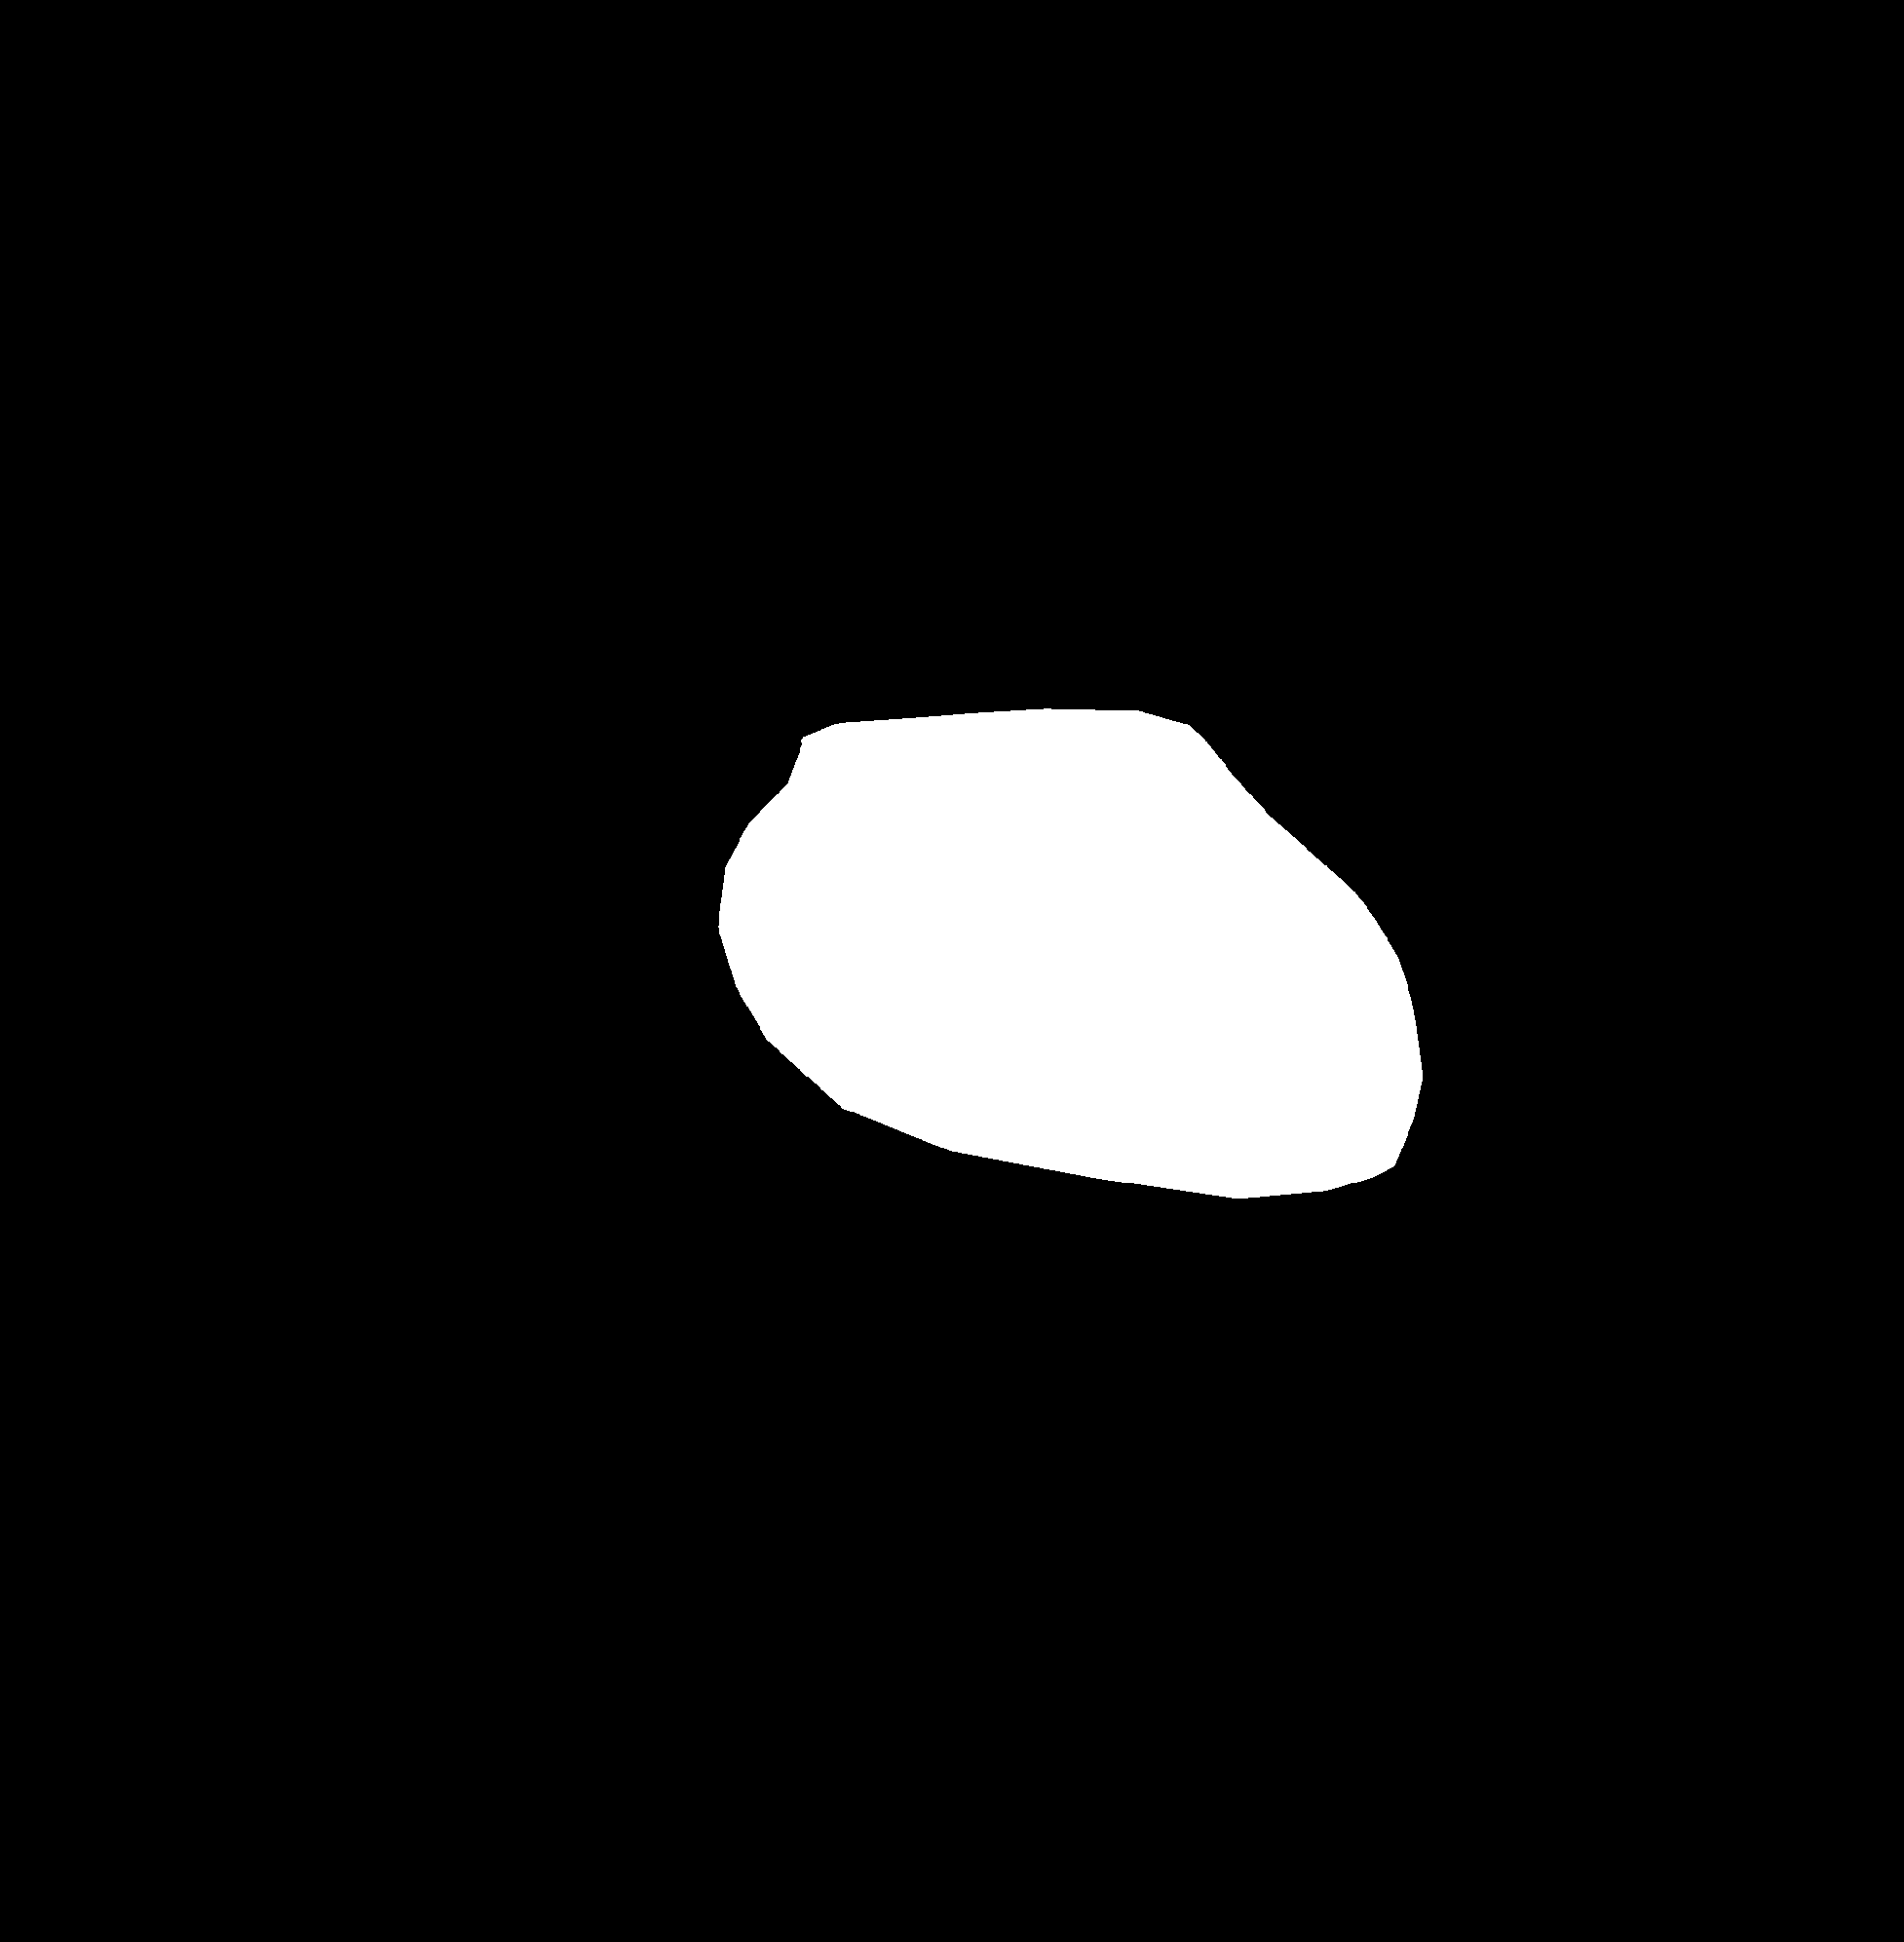heart: (724, 751, 1423, 1185)
left_lung: (319, 288, 882, 1199)
right_lung: (1060, 253, 1583, 1266)
